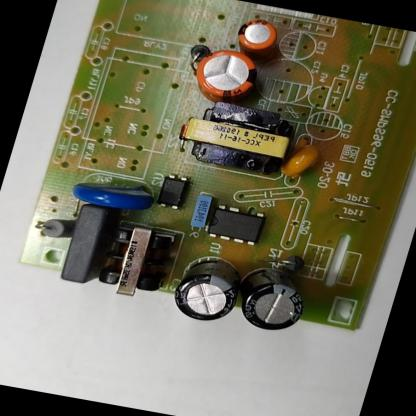Cap1: (183, 40, 273, 112)
Cap2: (222, 10, 292, 66)
Cap3: (162, 245, 252, 327)
Cap4: (220, 257, 318, 337)
MOSFET: (199, 197, 274, 251)
Mov: (66, 165, 163, 218)
Resistor: (29, 207, 77, 245)
Transformer: (169, 91, 309, 180), (86, 214, 184, 304)
